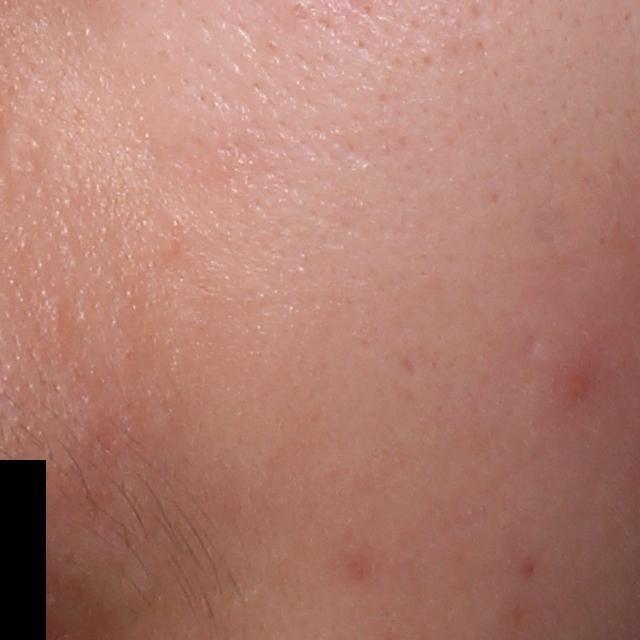atrophic_scar: (520, 335, 538, 358)
papule: (551, 361, 599, 410)
